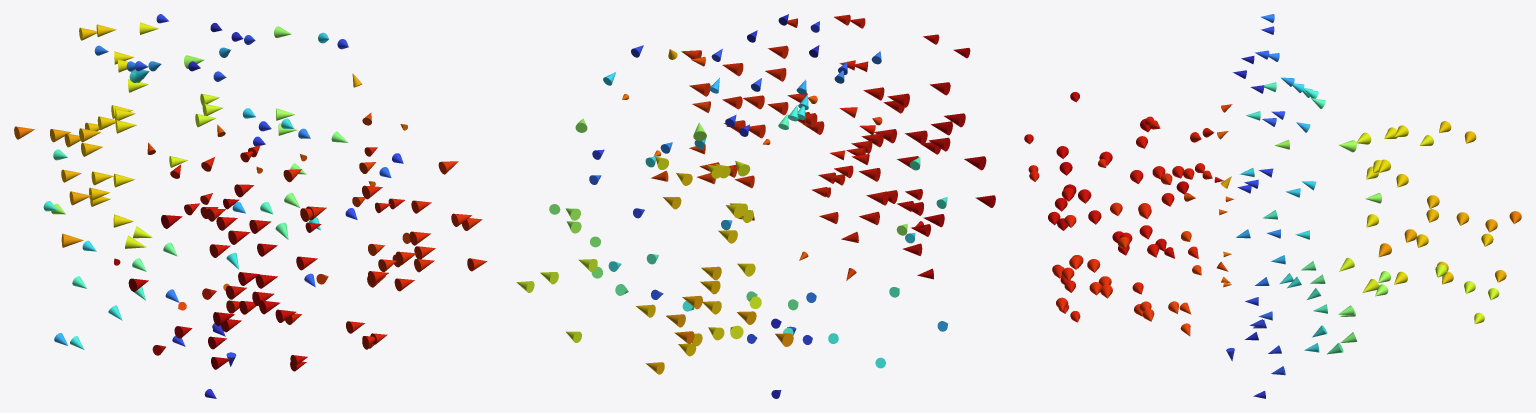
File: LineasCorrienteH2-O2_mh2-1.38_V-0.8.glb
3 renders of one model, left to right at view 1: azimuth 30°, elevation 25°; view 2: azimuth 150°, elevation 25°; view 3: azimuth 270°, elevation 25°, orthographic. The views are drawn at different scales.
Size of the model in its own units: 0.000924 by 0.000967 by 0.00124.
Materials: 2 (2 with a texture image).
